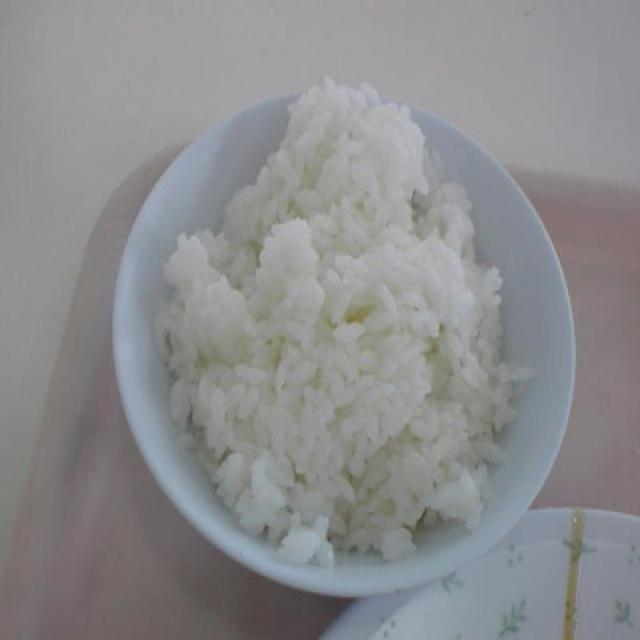nasi_putih: (153, 81, 512, 572)
